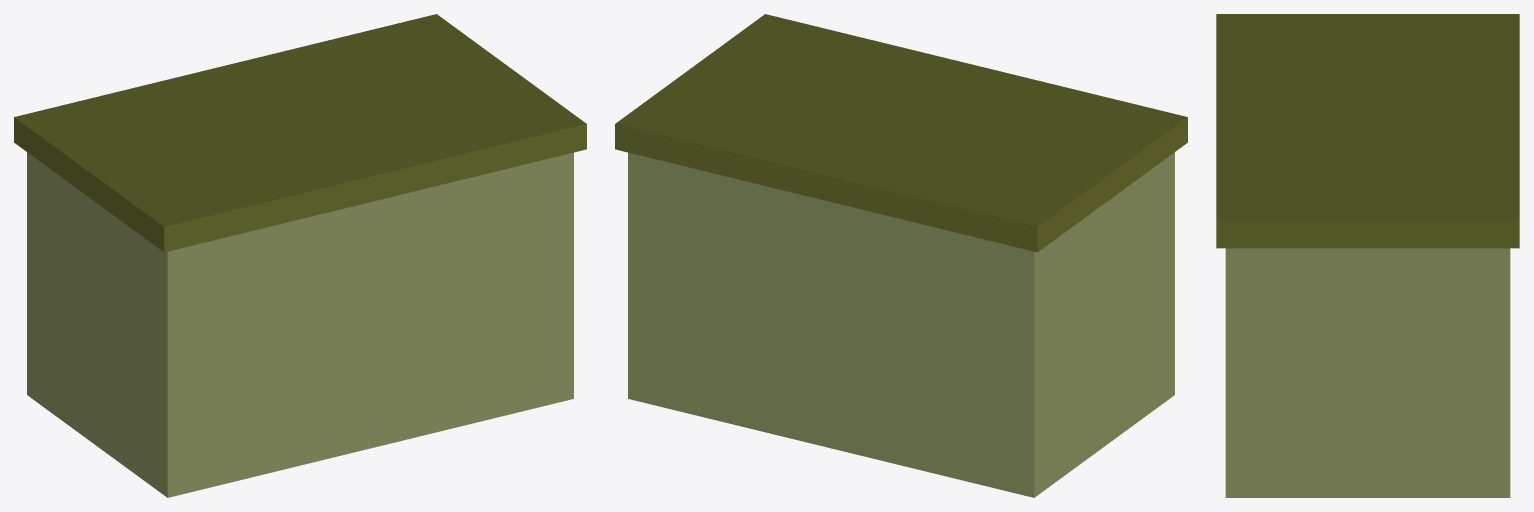
File: SM_CajasMunicion_v0_Cerrada_LOD1.fbx
3 renders of one model, left to right at view 1: azimuth 30°, elevation 25°; view 2: azimuth 150°, elevation 25°; view 3: azimuth 270°, elevation 25°, orthographic.
Visible parts, largest first — view 1: SM_farp_betera_v20_LOD1; view 2: SM_farp_betera_v20_LOD1; view 3: SM_farp_betera_v20_LOD1.
Boxes of the visible parts, bbox=[...] form: SM_farp_betera_v20_LOD1: bbox=[14, 14, 586, 497]; SM_farp_betera_v20_LOD1: bbox=[615, 14, 1187, 497]; SM_farp_betera_v20_LOD1: bbox=[1216, 14, 1519, 497].
Bounding box in the file's own units: 0.52 × 0.325 × 0.32.
